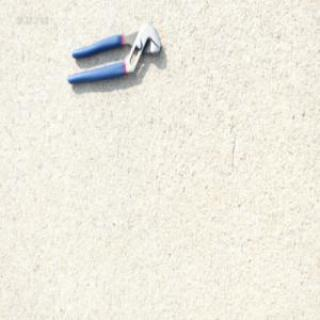Pliertrack_idkeyframe: (65, 21, 161, 86)
